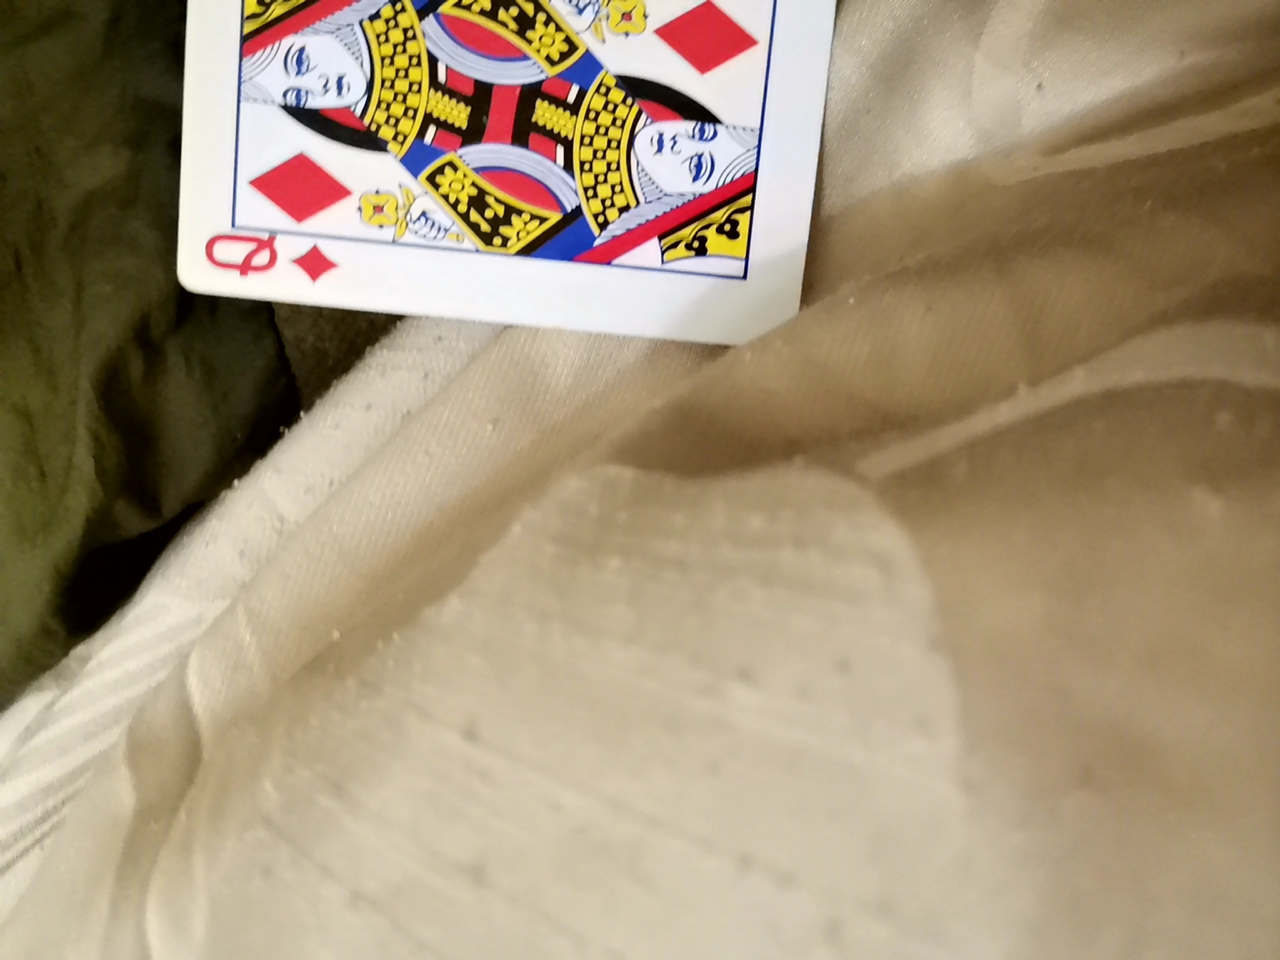fk q: (139, 0, 833, 365)
